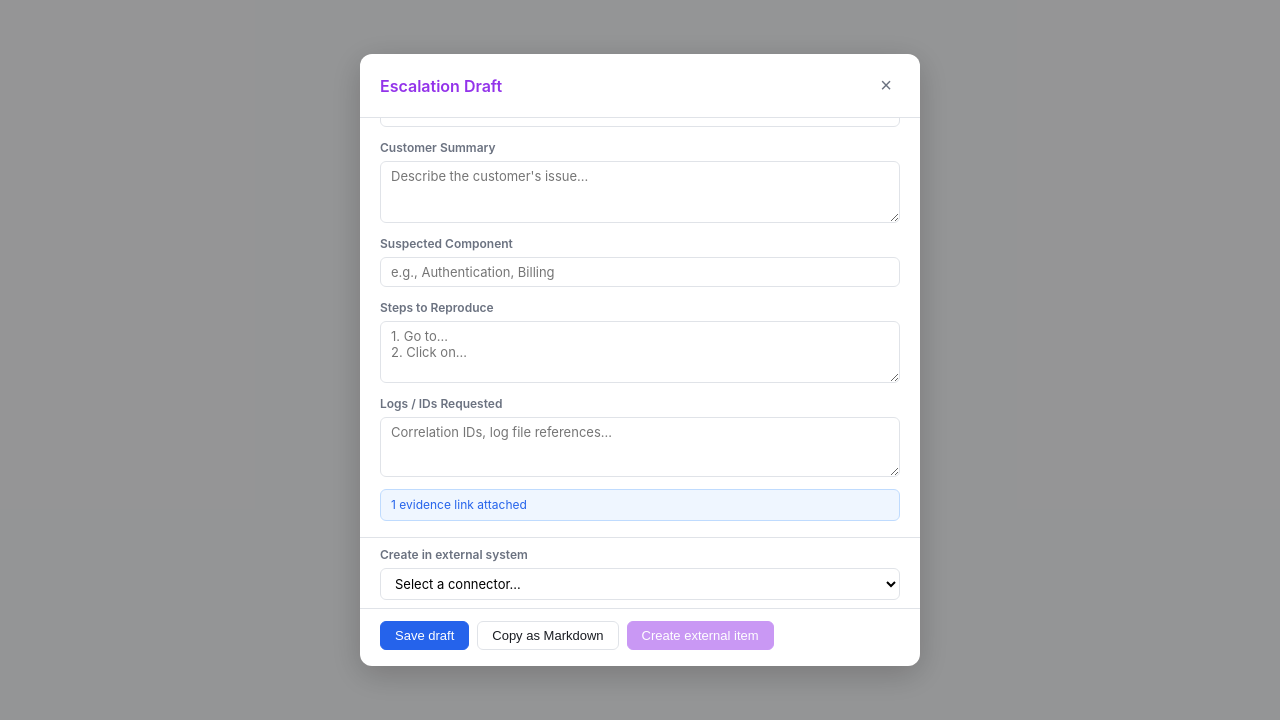
Test: EscalationDraftModal › renders aria-label on ClickUp target list ID input when ClickUp connector selected
The width and height of the screenshot is (1280, 720).
(page scrolled)
Select "My ClickUp (ClickUp)" in the dropdown with test id "connector-selector": [640, 584] box [380,568,900,600]
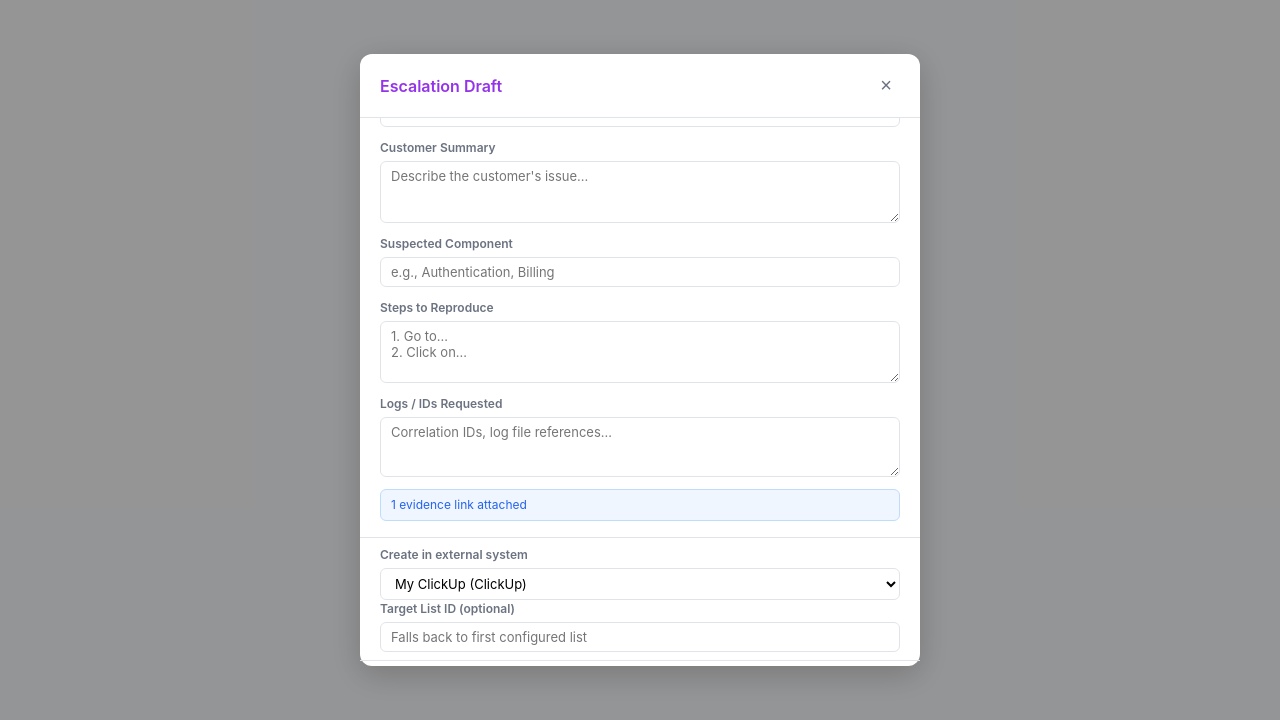
Expected: the field with test id "target-list-id" is shown, [380,622,900,652]
